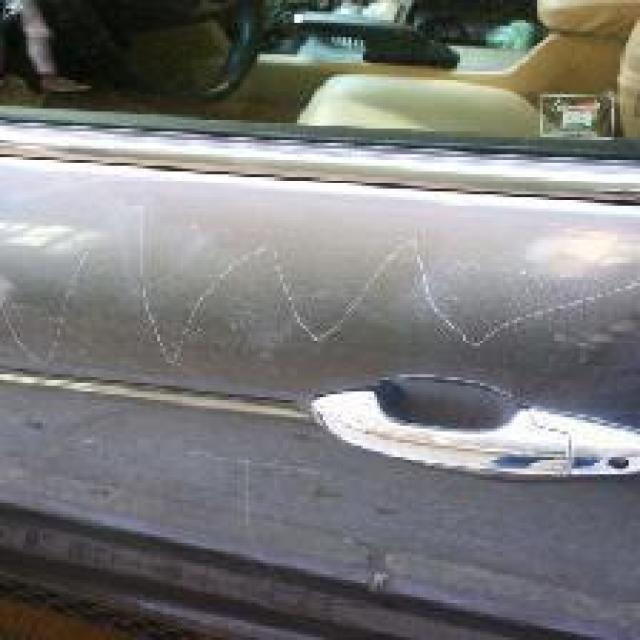damaged: (0, 203, 637, 406)
